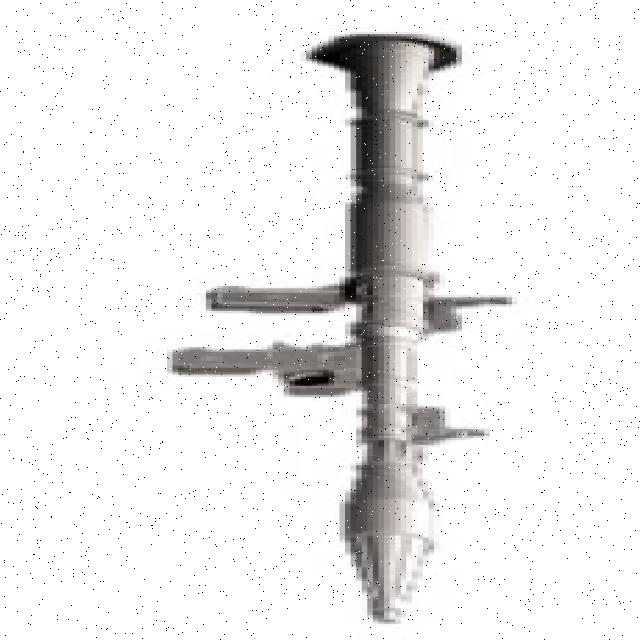bazooka: (148, 28, 535, 631)
